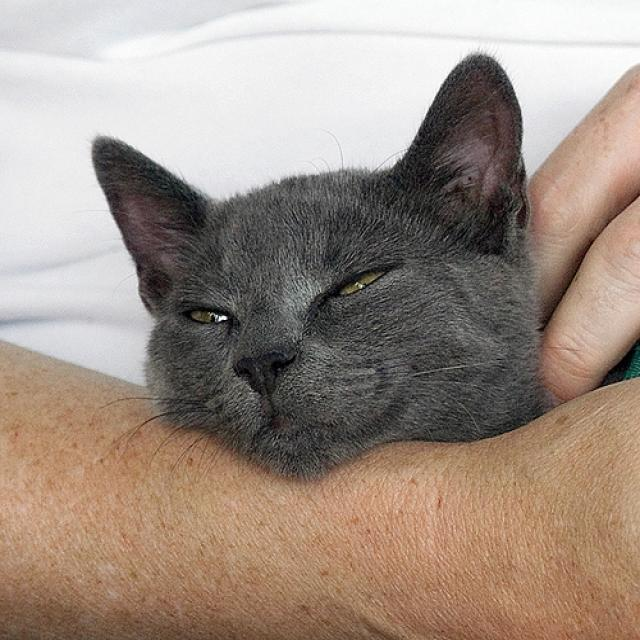cat: (89, 50, 558, 483)
